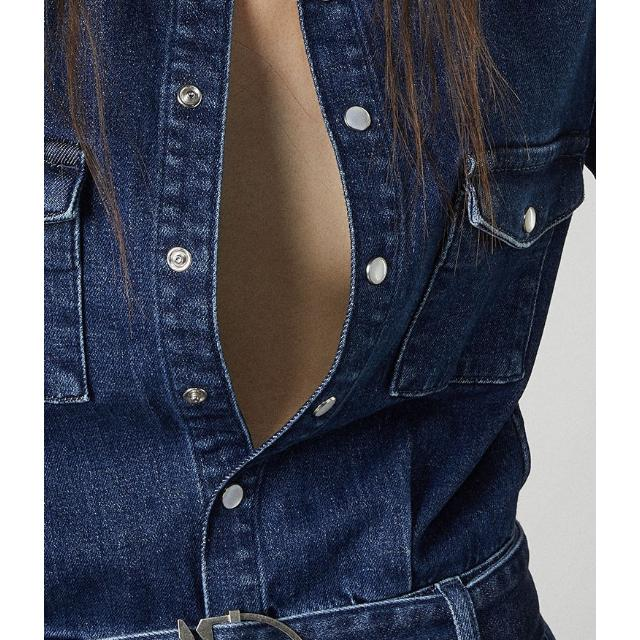denim: (44, 0, 596, 640)
